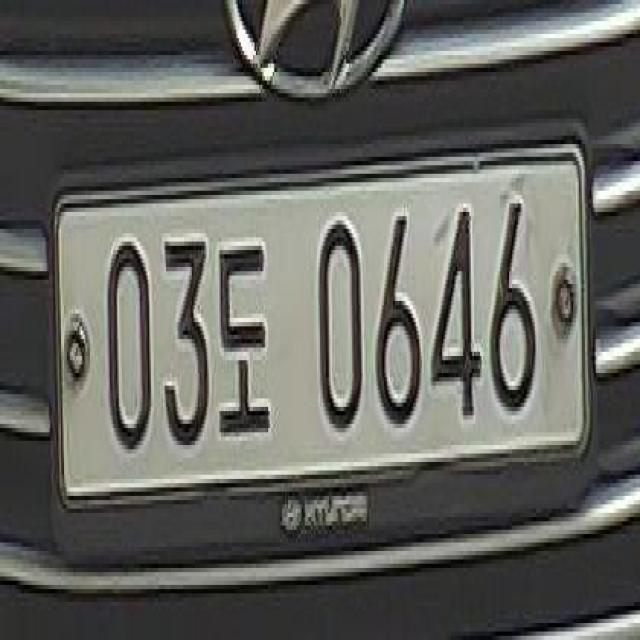illegal_plate: (51, 134, 600, 539)
